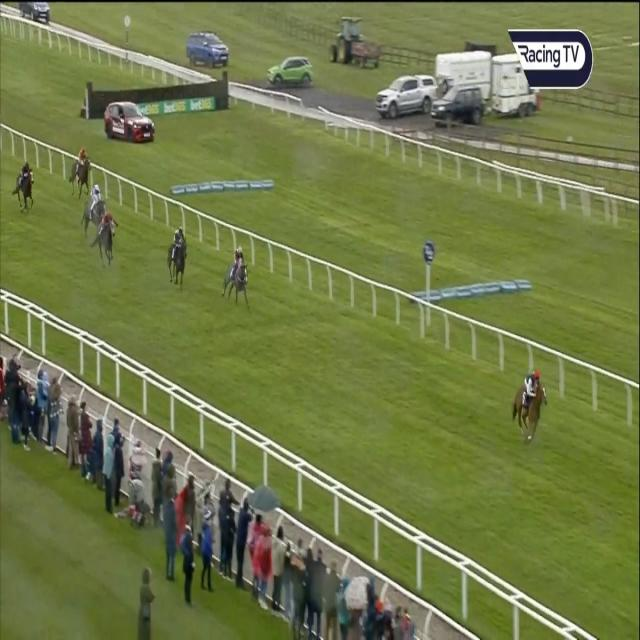horses-racing: (508, 365, 548, 441), (225, 240, 252, 304), (165, 228, 193, 285), (96, 210, 122, 265), (15, 163, 37, 211), (68, 146, 92, 188), (86, 183, 106, 229)
